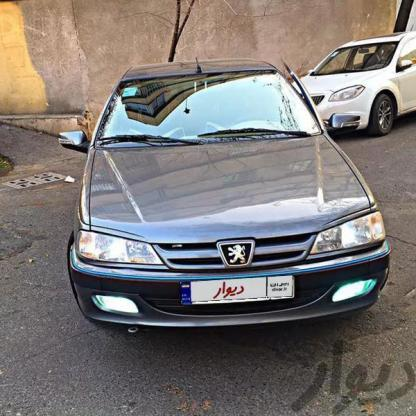Car: (65, 61, 385, 344), (305, 28, 416, 148)
